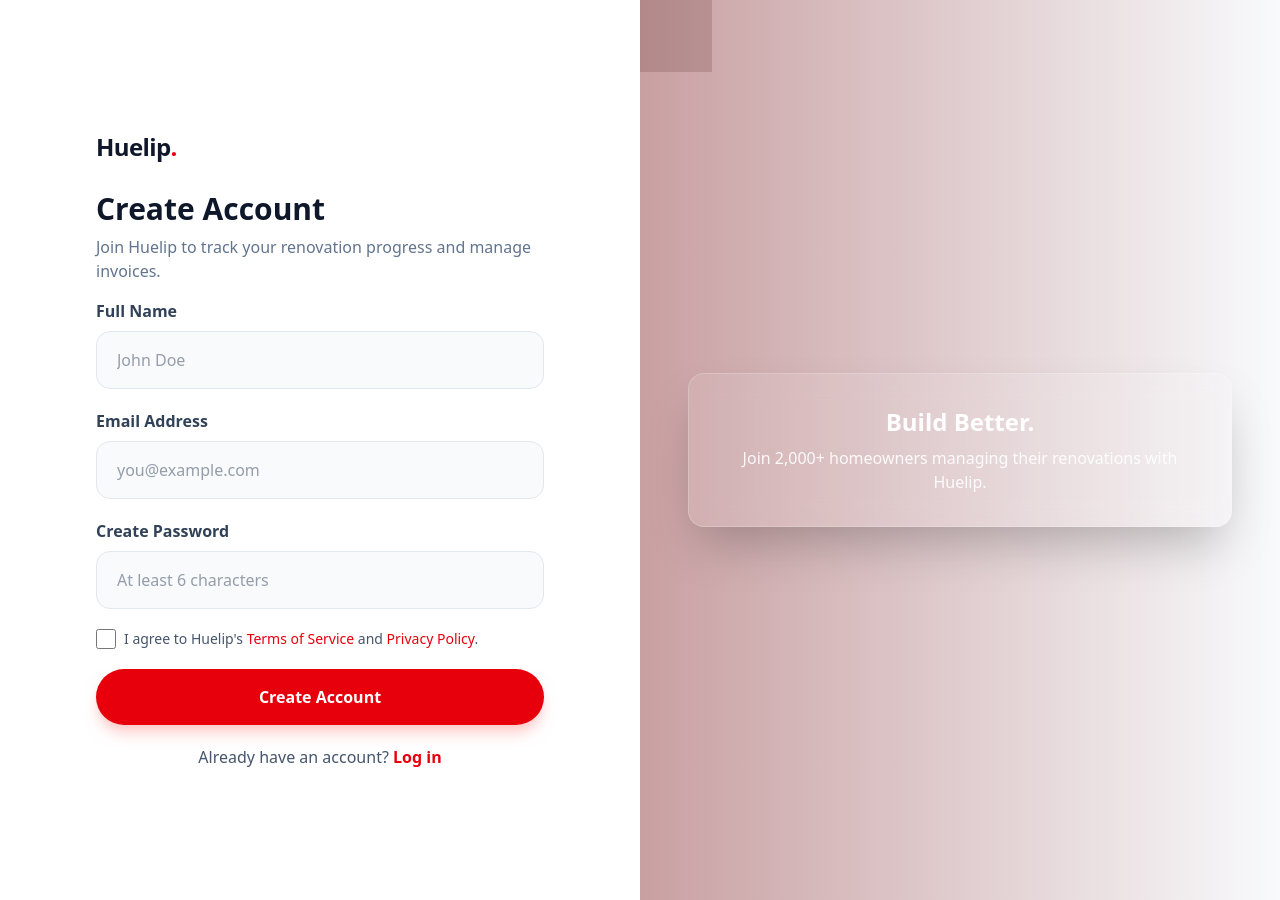
Test: Signup Page › Property 9: Invalid email validation › should display error for invalid email format
This screenshot has width=1280, height=900.
Note: Type invalid email and blur
Type "notanemail" into the field labelled "Email Address" at (320, 470), box [96,441,544,499]
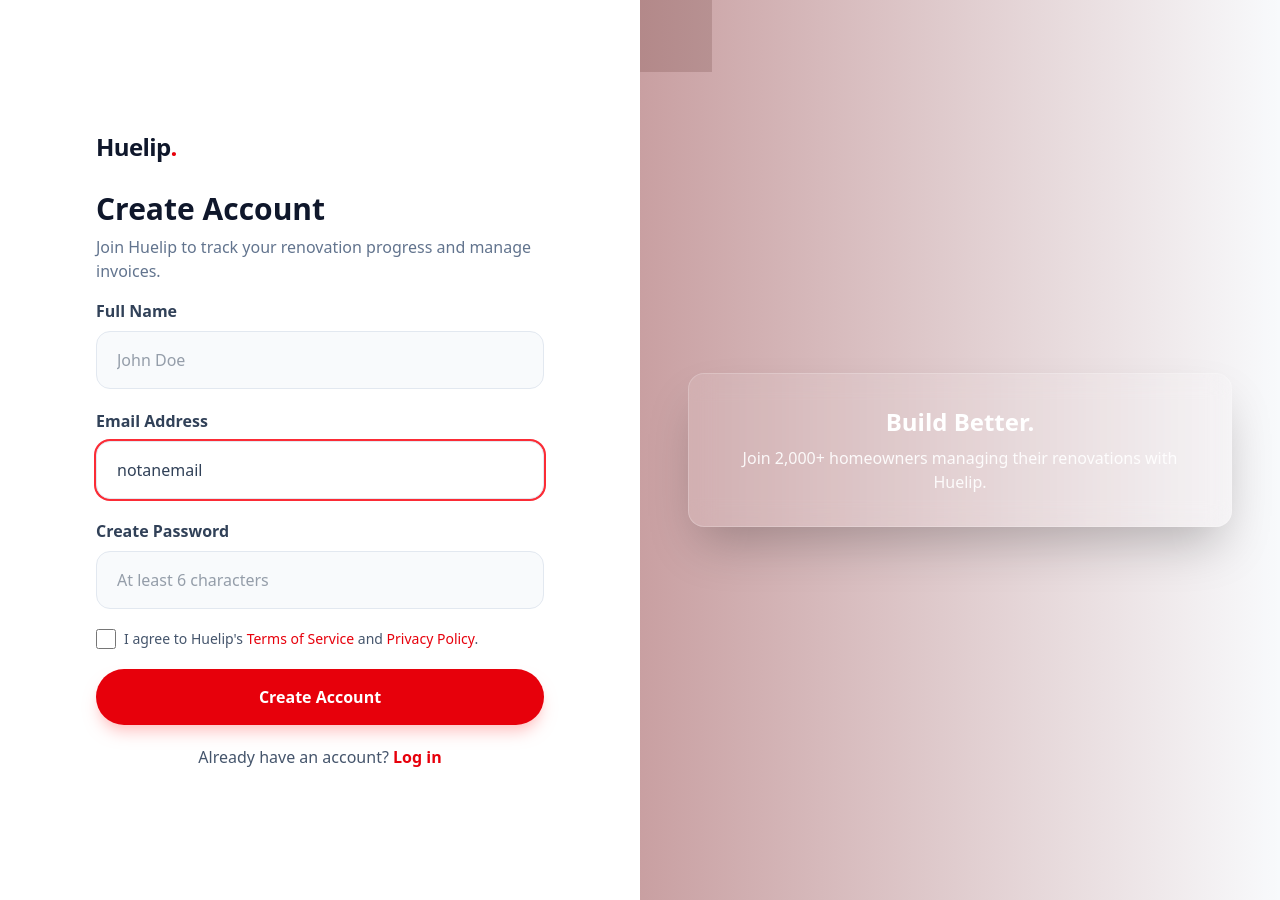
Press Tab
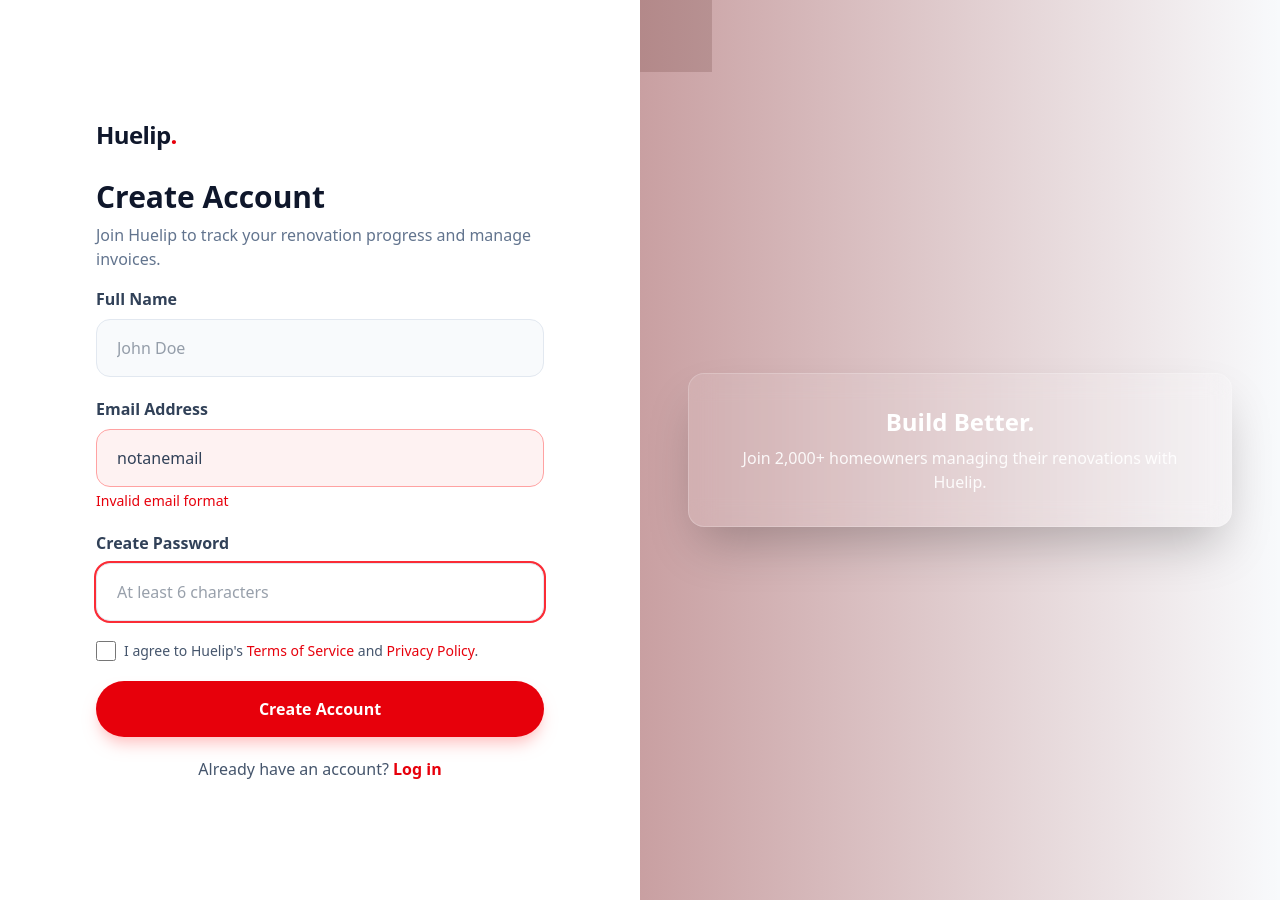
expect the text "Invalid email format" is shown: met, box [96,491,229,510]
